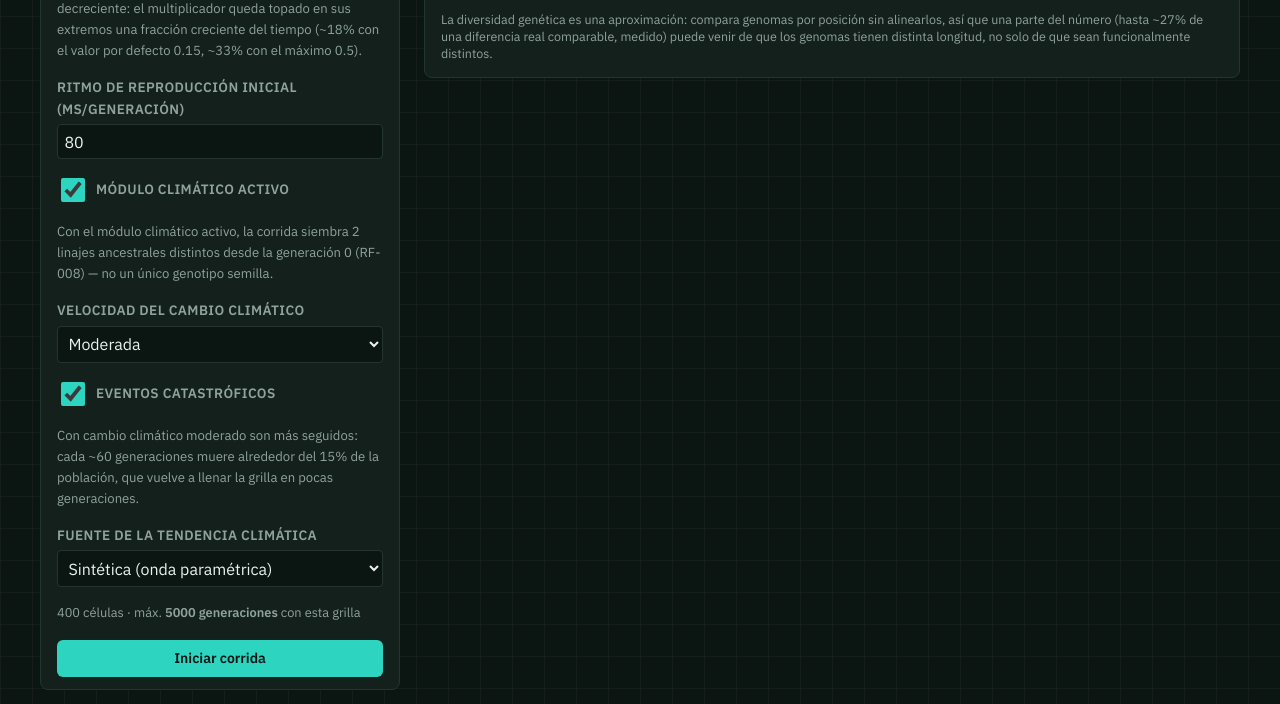
it: <App /> › RF-015: checkbox de eventos catastróficos › la nota de intensidad cambia con la velocidad: el usuario elige SI, no cuánto
(page scrolled)
Select "Lenta" in the dropdown labelled "Velocidad del cambio climático" at coordinates (220, 344), box [57,326,383,363]
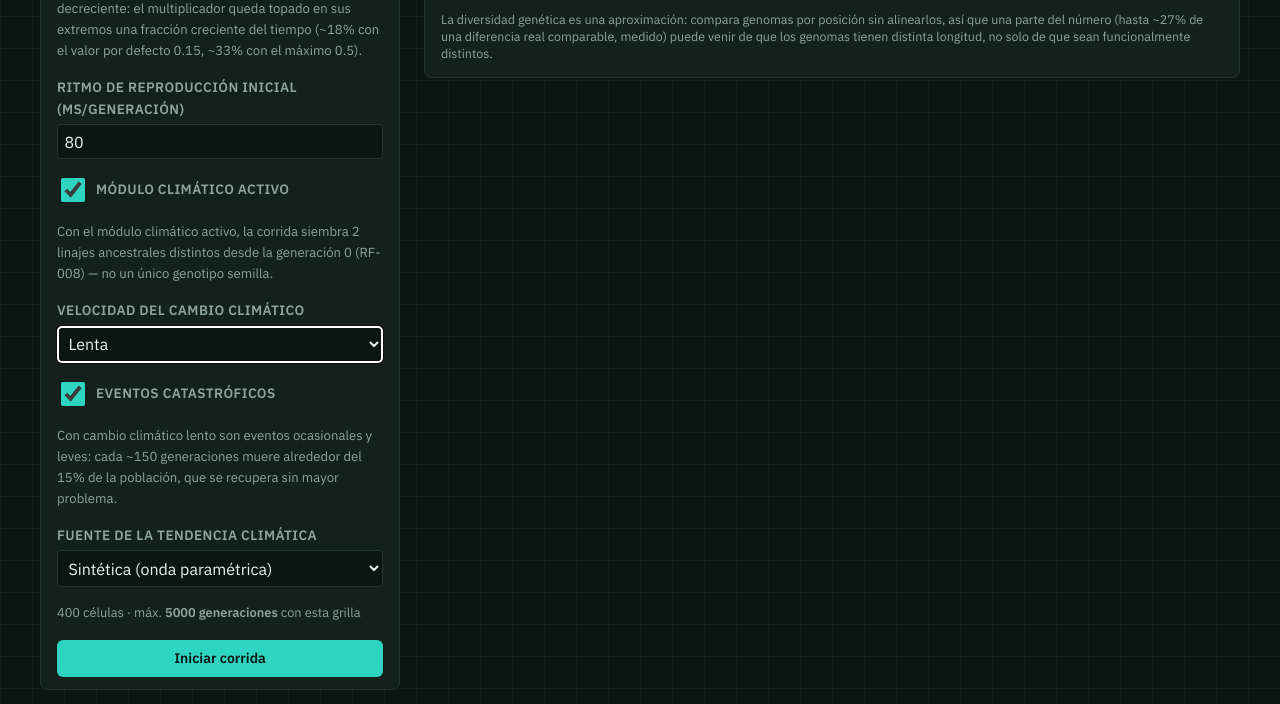
Check: the text "cada ~150 generaciones" is shown, box [57,427,372,507]
Select "Moderada" in the dropdown labelled "Velocidad del cambio climático" at coordinates (220, 344), box [57,326,383,363]
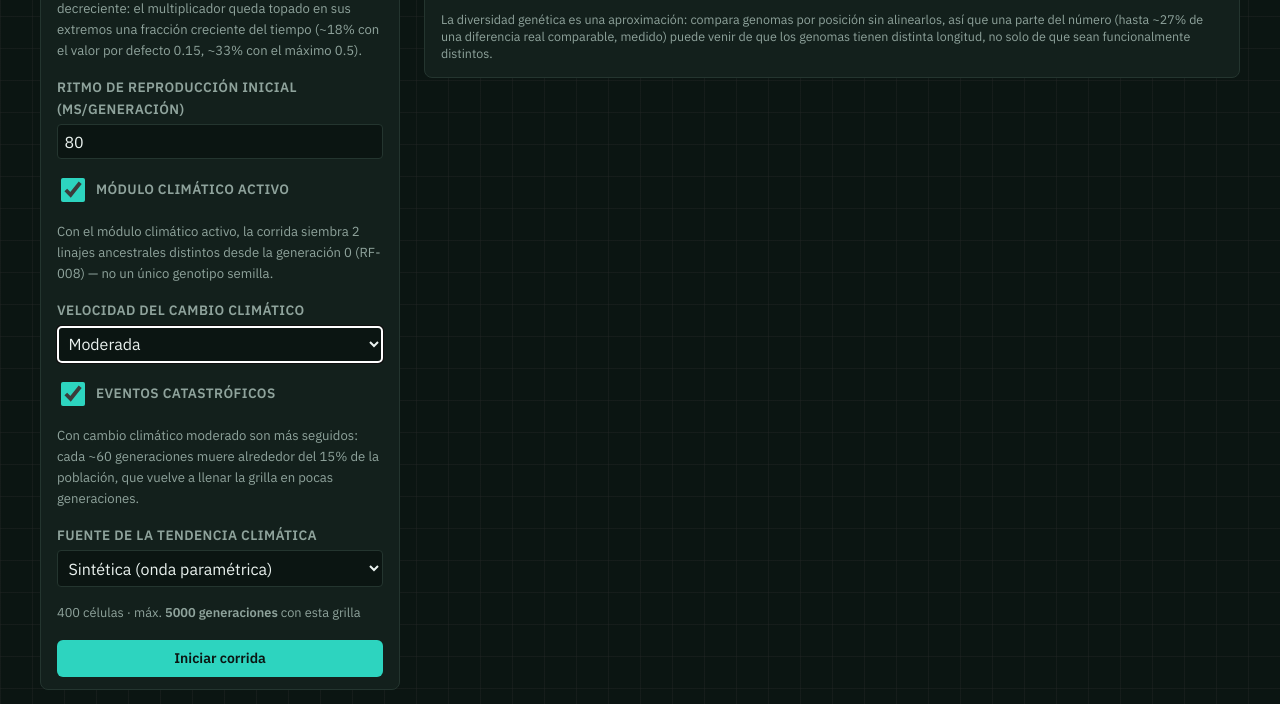
Check: the text "cada ~60 generaciones" is shown, box [57,427,379,507]
Select "Rápida" in the dropdown labelled "Velocidad del cambio climático" at coordinates (220, 344), box [57,326,383,363]
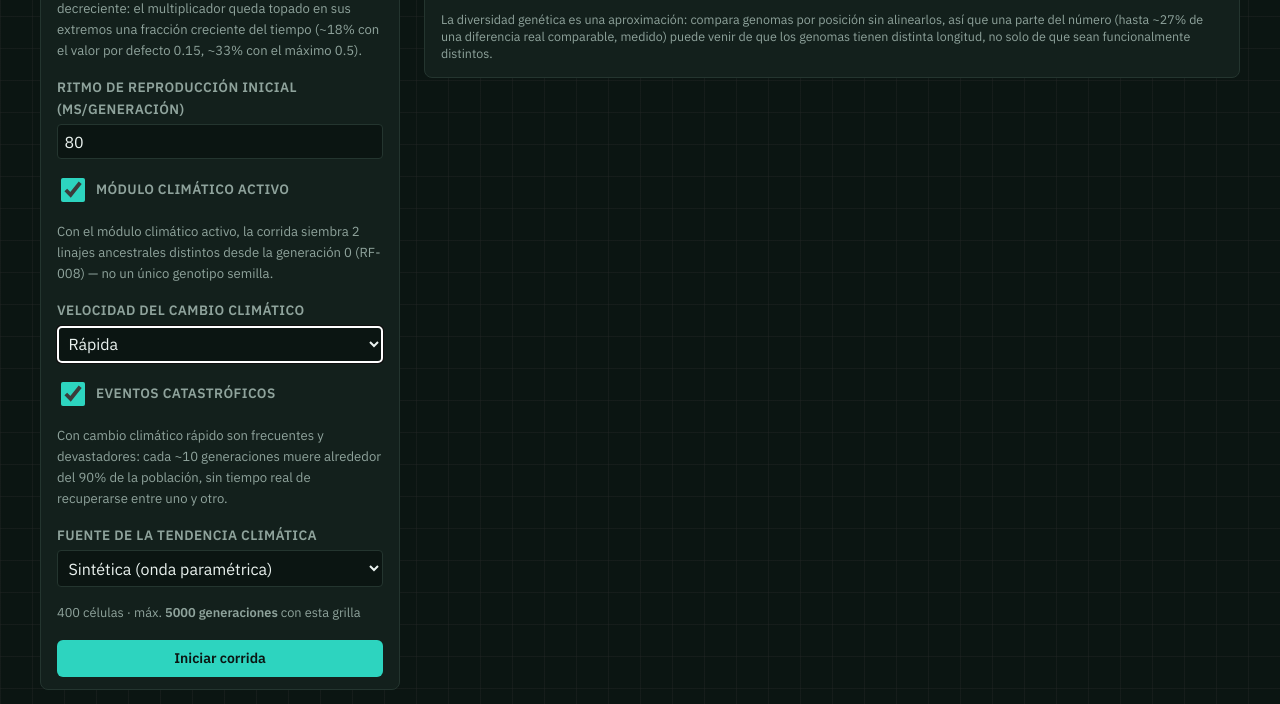
Check: the text "cada ~10 generaciones" is shown, box [57,427,381,507]
